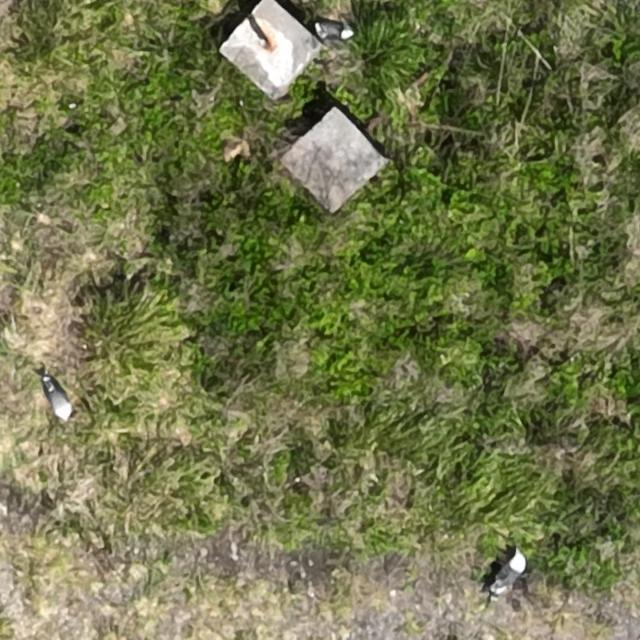umineko: (495, 555, 525, 592), (47, 384, 72, 419), (316, 21, 348, 40)
